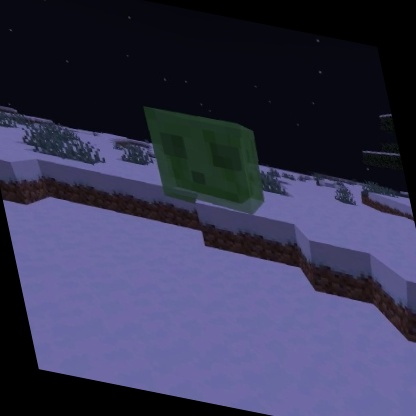slime: (141, 100, 277, 222)
